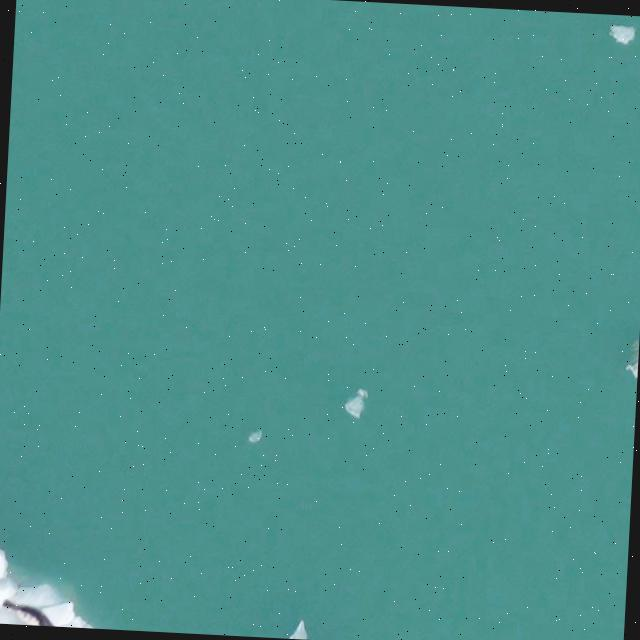seal: (0, 599, 59, 632)
